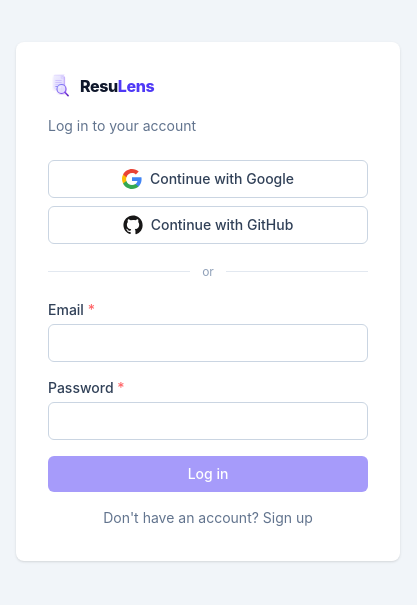
Test: AuthPage — login › surfaces the server error message when login rejects
Type "a@b.com" into the field labelled "Email *" at (208, 342), box [48,324,368,362]
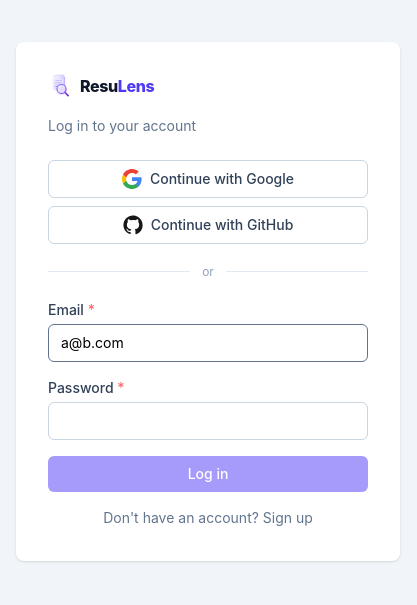
Type "wrongpass" into the password field labelled "Password *" at (208, 420), box [48,402,368,440]
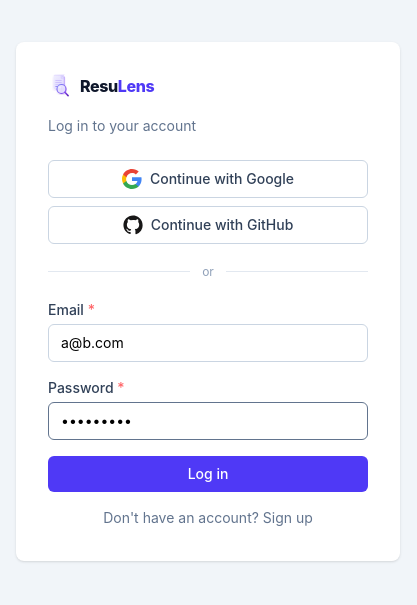
Click the button "Log in" at (208, 474), box [48,456,368,492]
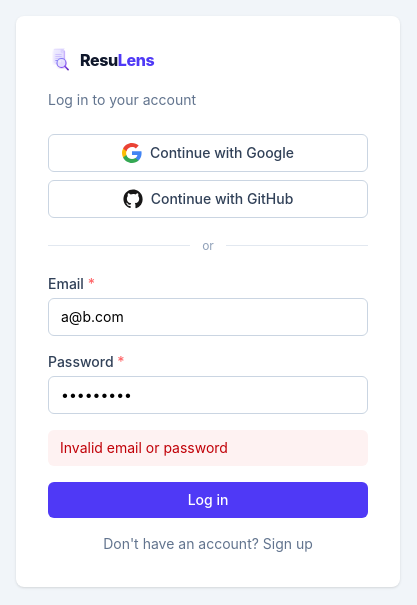
Now the text "Invalid email or password" is shown, box [48,430,368,466]
